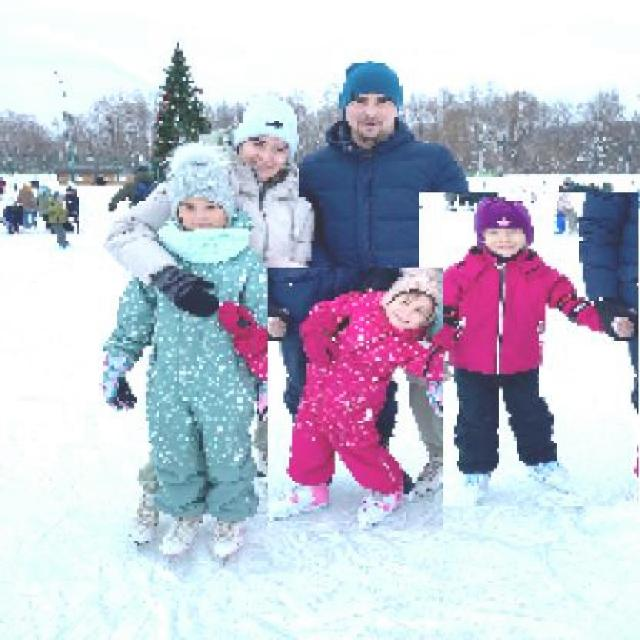child: (418, 192, 638, 508), (266, 268, 443, 532)
